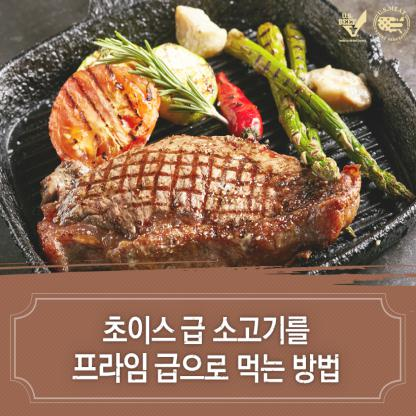Carne: (39, 133, 369, 259)
